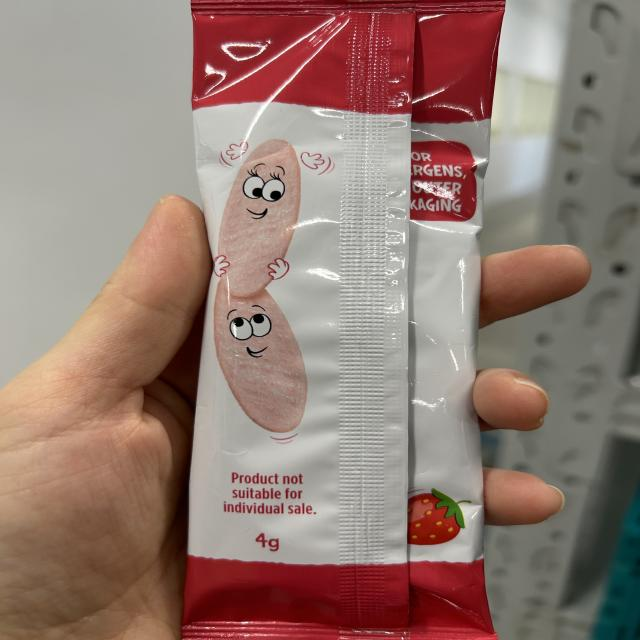object_name: (201, 3, 472, 640)
